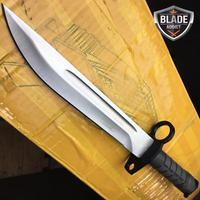knife: (3, 2, 174, 174)
